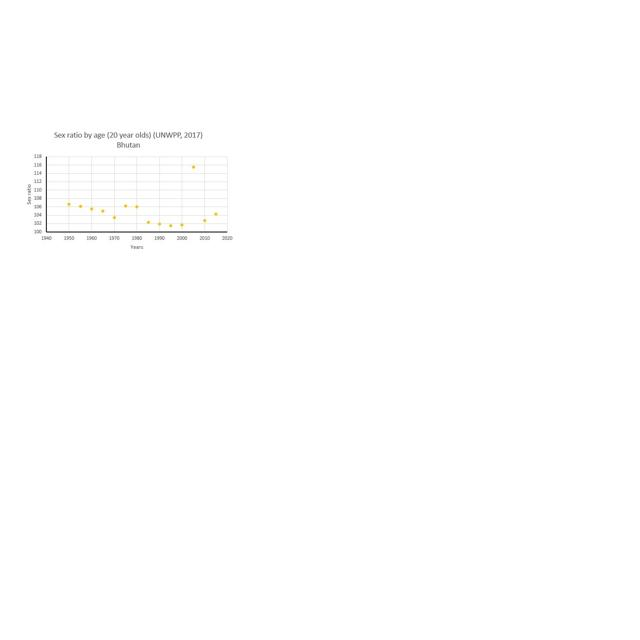Graph: (21, 129, 238, 254)
